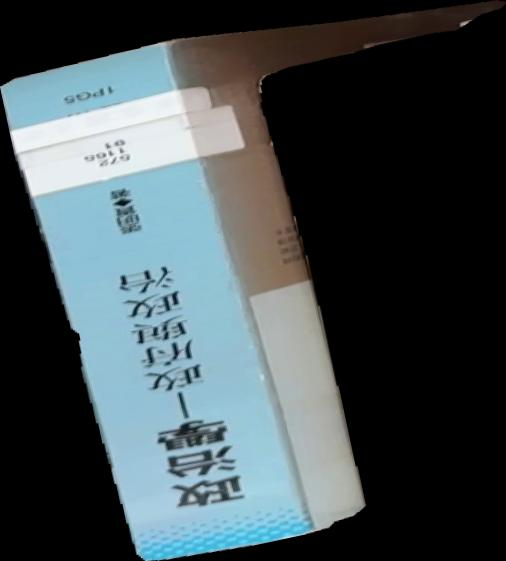reverse: (1, 1, 506, 561)
